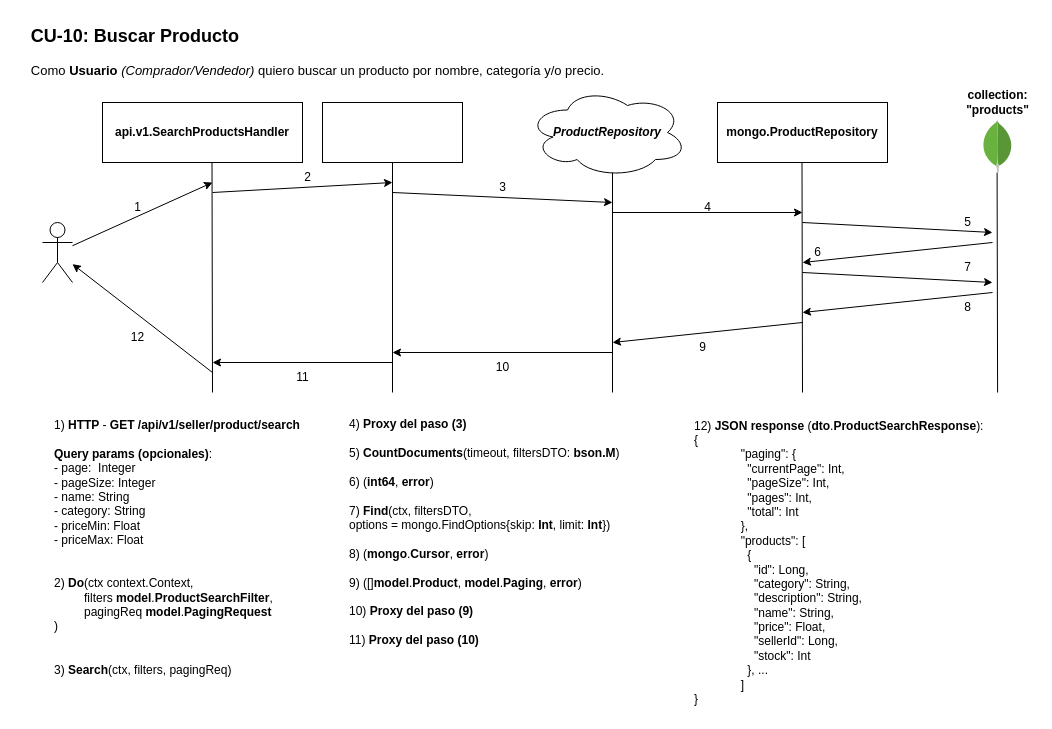
Image size: 1052x729. Some labels were removed from this diagram. Each missing label, with the box of its shape:
query.SearchProducts: (322, 102, 462, 162)
Usuario: (42, 222, 72, 282)
